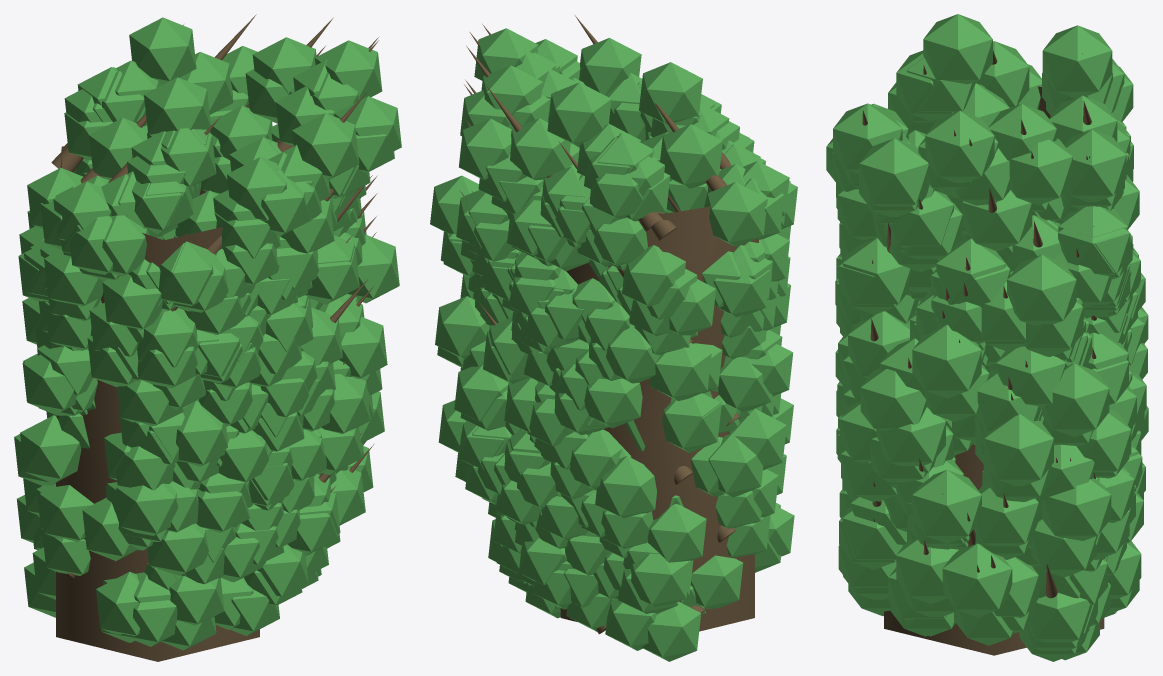
Rendered from tree_var_2039.glb.
The picture shows the model from 3 angles, left to right: view 1: azimuth 30°, elevation 25°; view 2: azimuth 150°, elevation 25°; view 3: azimuth 270°, elevation 25°; orthographic projection. The views are drawn at different scales.
Visible parts, largest first — view 1: tree_var_2039; view 2: tree_var_2039; view 3: tree_var_2039.
Part boxes in pixels (x1,y1,x2,y2): tree_var_2039: (14,14,401,661); tree_var_2039: (430,15,797,661); tree_var_2039: (826,14,1148,661).
Bounding box in the file's own units: 3.43 × 5.44 × 2.53.
